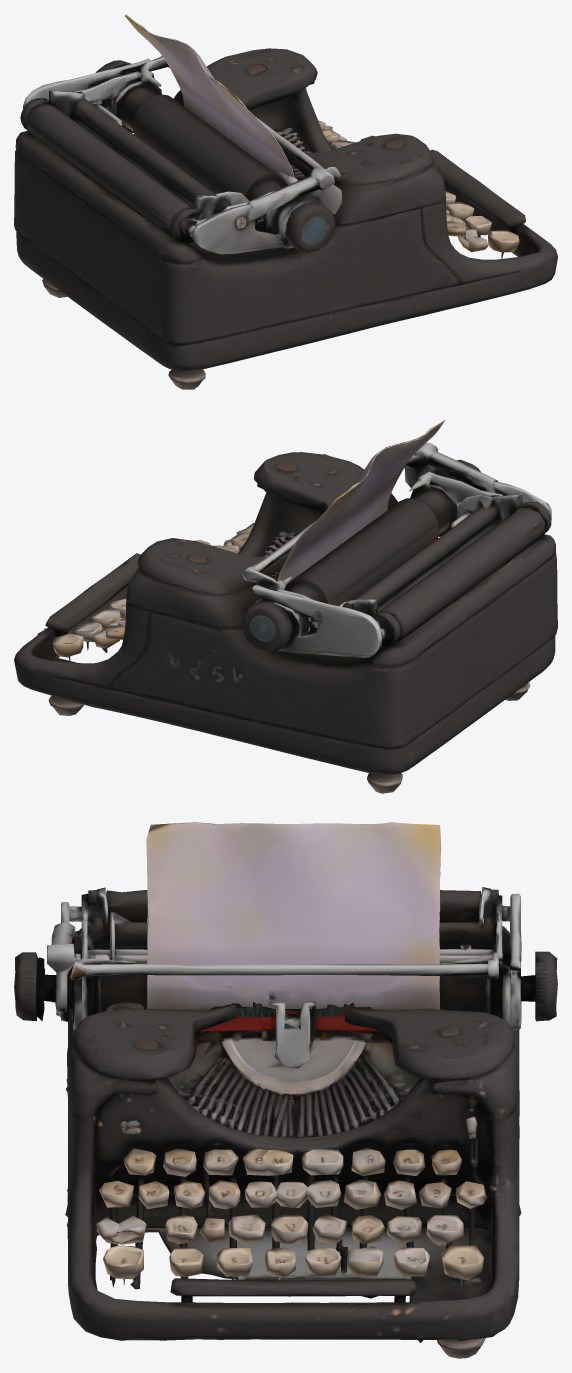
3 renders of one model, top to bottom at view 1: azimuth 30°, elevation 25°; view 2: azimuth 150°, elevation 25°; view 3: azimuth 270°, elevation 25°, orthographic. The views are drawn at different scales.
Parts seen in each view (by area): view 1: tripo_node_df39a4f7-6255-46ee-ae34-5fcf5fc410c6; view 2: tripo_node_df39a4f7-6255-46ee-ae34-5fcf5fc410c6; view 3: tripo_node_df39a4f7-6255-46ee-ae34-5fcf5fc410c6.
Part boxes in pixels (box(x1,y1,x2,y2)): tripo_node_df39a4f7-6255-46ee-ae34-5fcf5fc410c6: box(14, 14, 557, 389); tripo_node_df39a4f7-6255-46ee-ae34-5fcf5fc410c6: box(14, 420, 557, 793); tripo_node_df39a4f7-6255-46ee-ae34-5fcf5fc410c6: box(14, 822, 557, 1358).
Size of the model in its own units: 1 by 0.6598 by 0.8847.
Materials: 1 (1 with a texture image).
